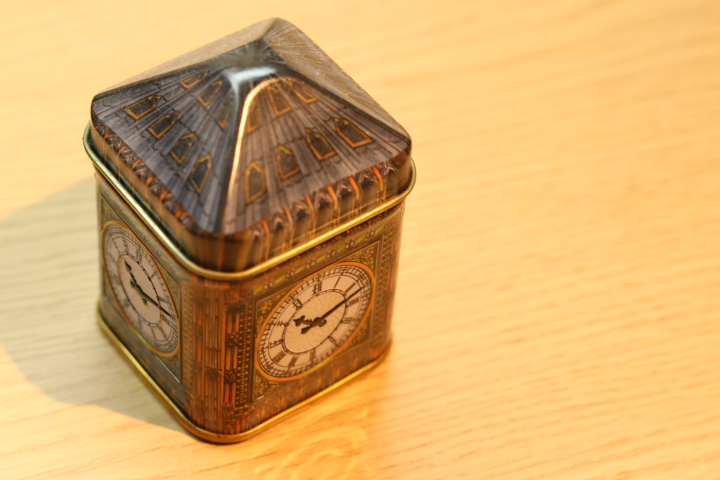Big Ben: (63, 8, 431, 459)
